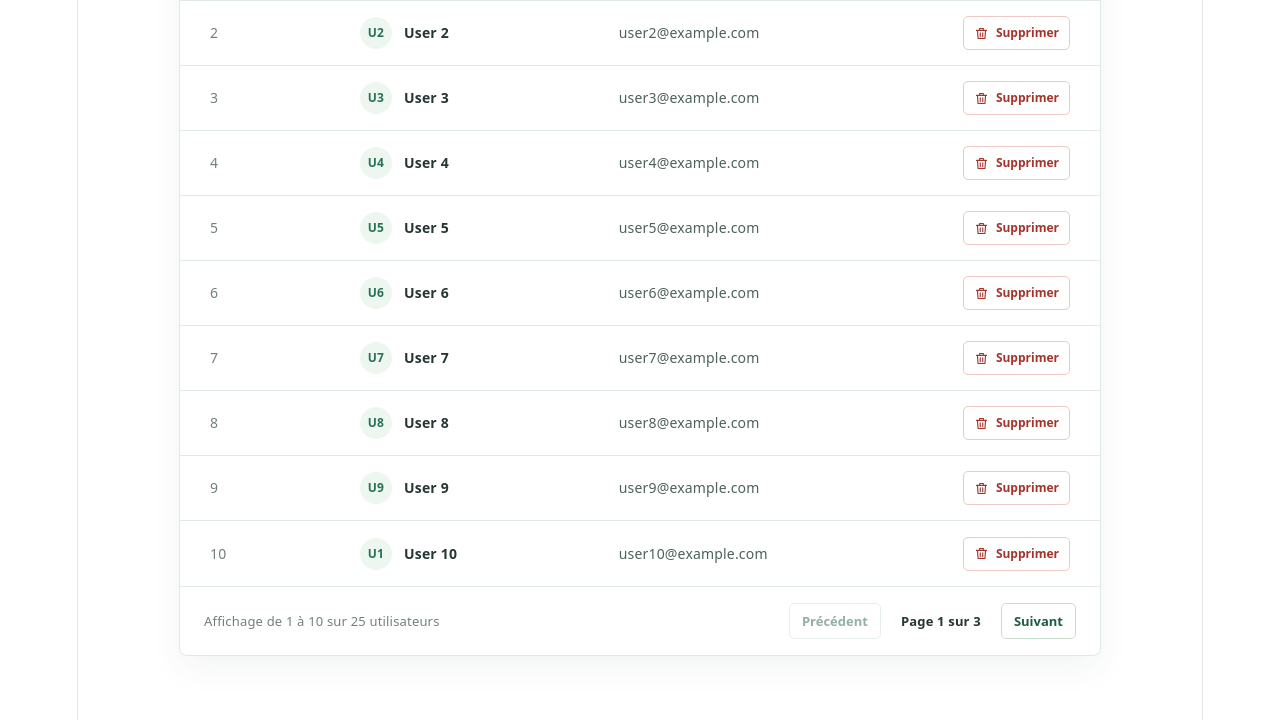
Scenario: UsersList changement de page sans décalage › conserve les lignes actuelles, atténuées, jusqu’à la réception de la page suivante
The width and height of the screenshot is (1280, 720).
(page scrolled)
Click the button with class "next-page": (1038, 621) [1001,603,1076,639]
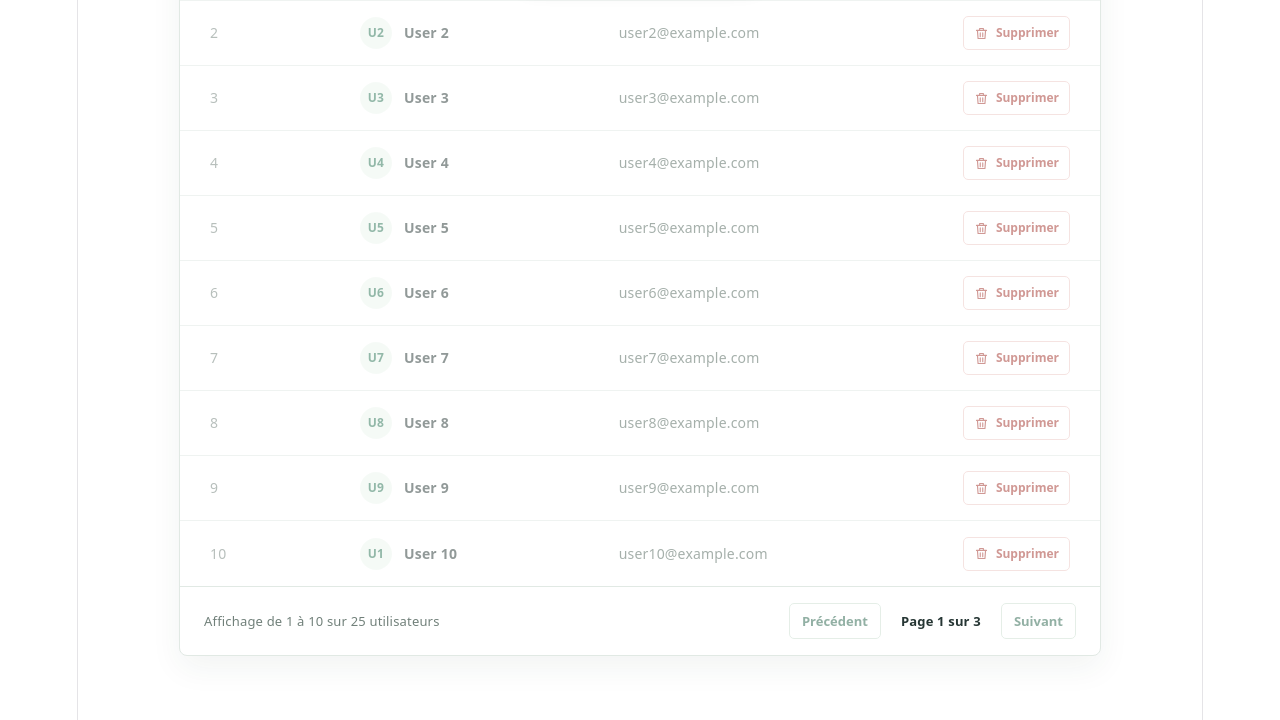
Expected: the navigation bar is shown, [180,586,1100,655]
Now the button with class "next-page" is disabled
Click the button with class "next-page": (1038, 621) [1001,603,1076,639]
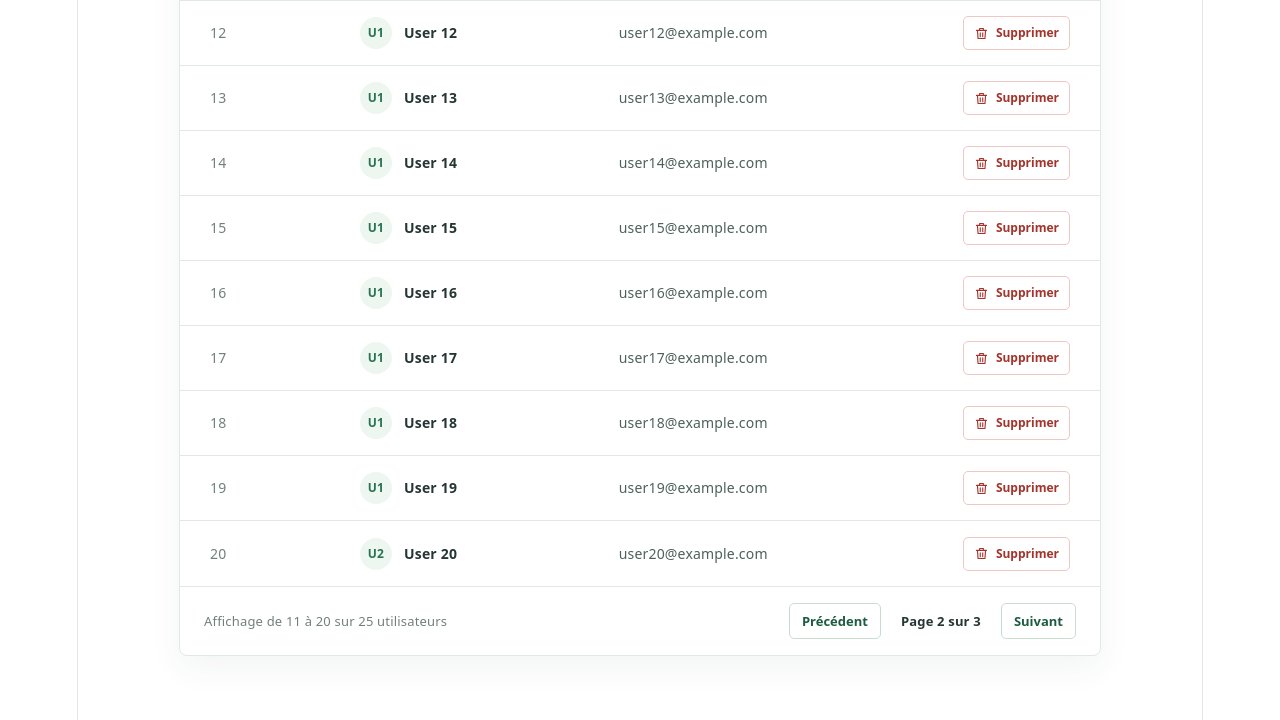
Expected: the text "User 1" is not shown
Now the button with class "next-page" is enabled, box [1001,603,1076,639]
Now the text "Page 2 sur 3" is shown, box [901,612,981,630]
